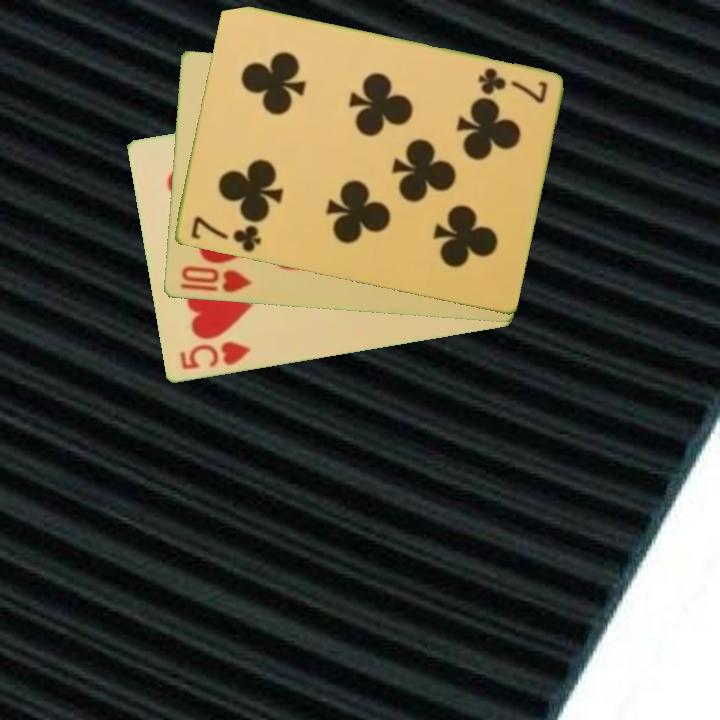10h: (177, 263, 254, 296)
5h: (176, 338, 254, 373)
7c: (473, 64, 550, 107), (187, 213, 264, 255)
